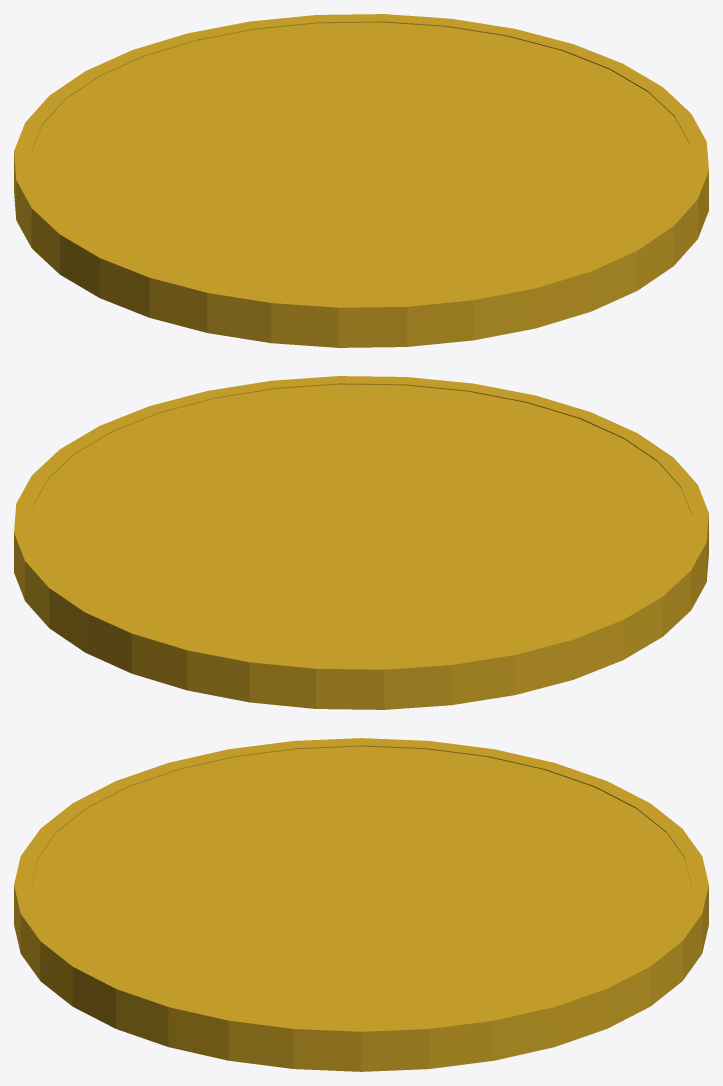
The model's file is COIN.fbx.
3 views of the same model, one above another, from view 1: azimuth 30°, elevation 25°; view 2: azimuth 150°, elevation 25°; view 3: azimuth 270°, elevation 25° (orthographic).
Visible parts, largest first — view 1: Cylinder; view 2: Cylinder; view 3: Cylinder.
Part boxes in pixels (x1,y1,x2,y2): Cylinder: (14, 14, 708, 347); Cylinder: (14, 376, 708, 709); Cylinder: (14, 738, 708, 1071).
Bounding box in the file's own units: 600 × 38.2 × 600.
